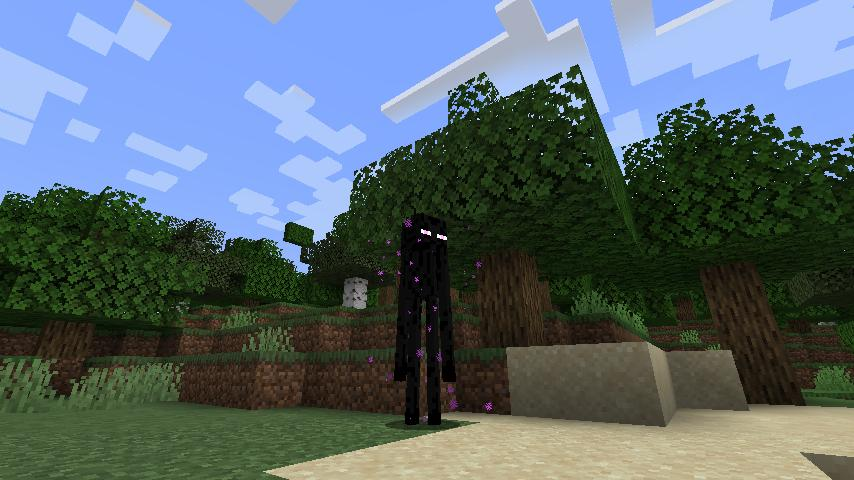enderman: (389, 212, 463, 427)
